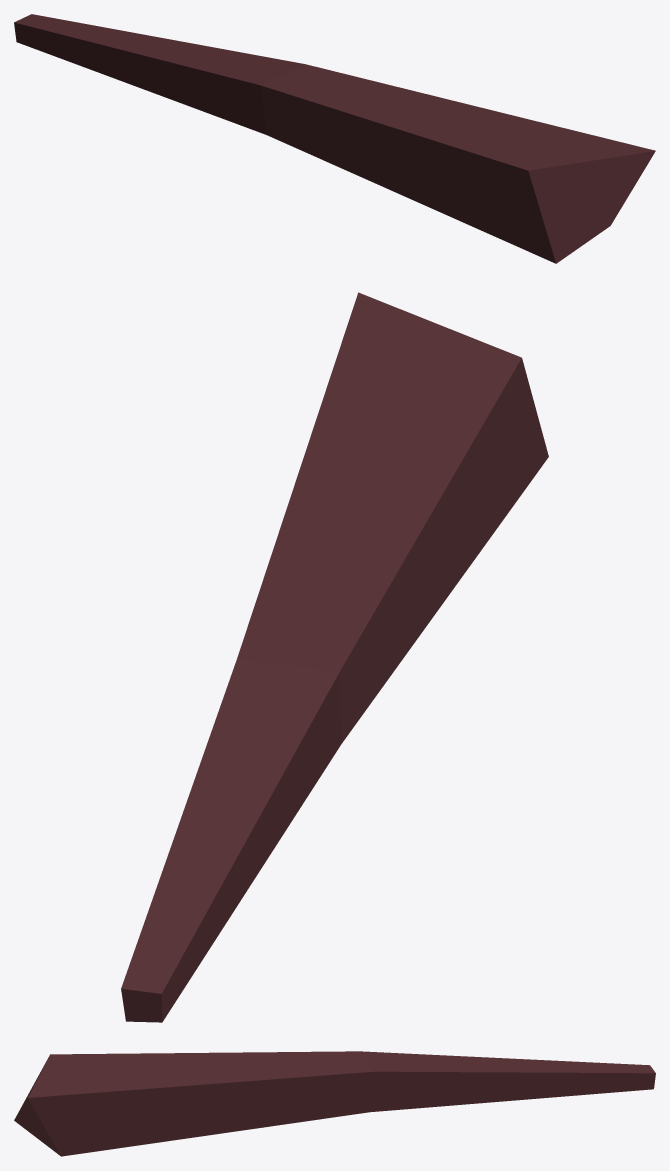
The model's file is FBX_mantis_horn.fbx.
3 renders of one model, top to bottom at view 1: azimuth 30°, elevation 25°; view 2: azimuth 150°, elevation 25°; view 3: azimuth 270°, elevation 25°, orthographic. The views are drawn at different scales.
Visible parts, largest first — view 1: horn; view 2: horn; view 3: horn.
Part boxes in pixels (left/top/right/bottom): horn: left=14, top=14, right=655, bottom=263; horn: left=121, top=292, right=548, bottom=1022; horn: left=14, top=1051, right=655, bottom=1156.
Bounding box in the file's own units: 0.3388 × 0.133 × 0.8851.
